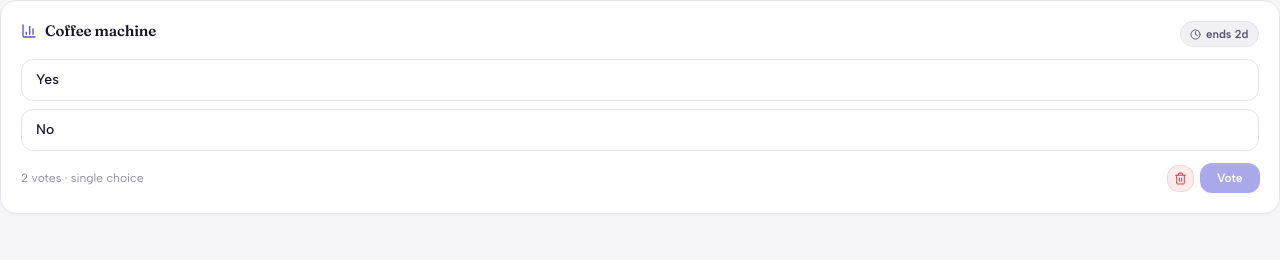
Test: PollCard — voting interactions › records a single-choice vote and shows results
The image size is (1280, 260).
Click the radio button labelled "Yes" at [47, 80], box x1=21 y1=59 x2=1259 y2=101
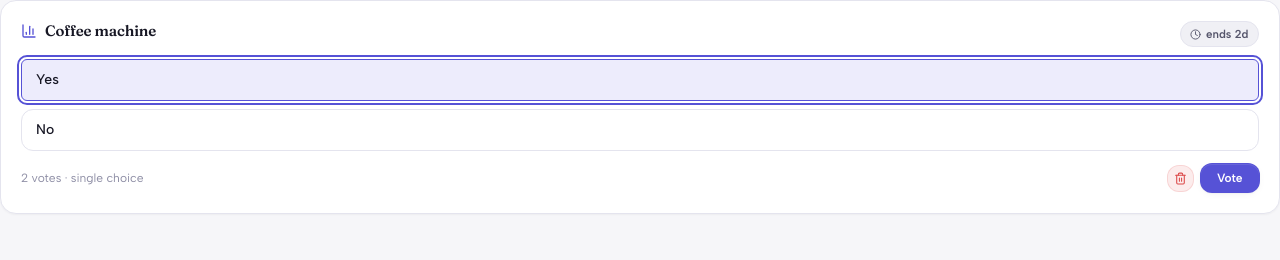
Click the button "Vote" at [1229, 178], box x1=1200 y1=163 x2=1259 y2=193
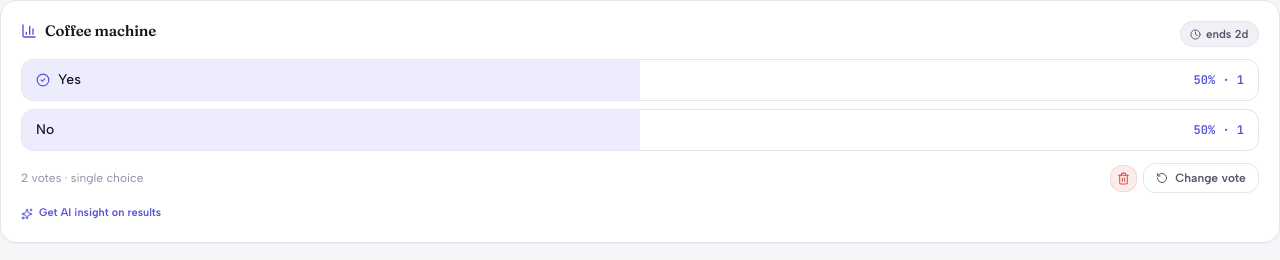
Expected: the text "50% · 1" is shown 2 times, x1=1194 y1=72 x2=1244 y2=88; x1=1194 y1=122 x2=1244 y2=138
Expected: the button "Change vote" is shown, x1=1143 y1=163 x2=1259 y2=193
